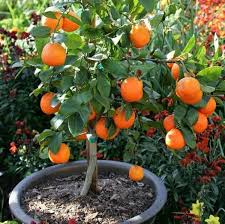orange: (174, 77, 204, 106), (120, 75, 146, 102), (93, 116, 121, 141), (126, 24, 152, 50), (41, 40, 68, 65), (109, 106, 136, 130), (185, 110, 209, 134), (164, 129, 187, 153), (46, 143, 72, 164), (195, 94, 218, 117), (37, 93, 62, 114)
